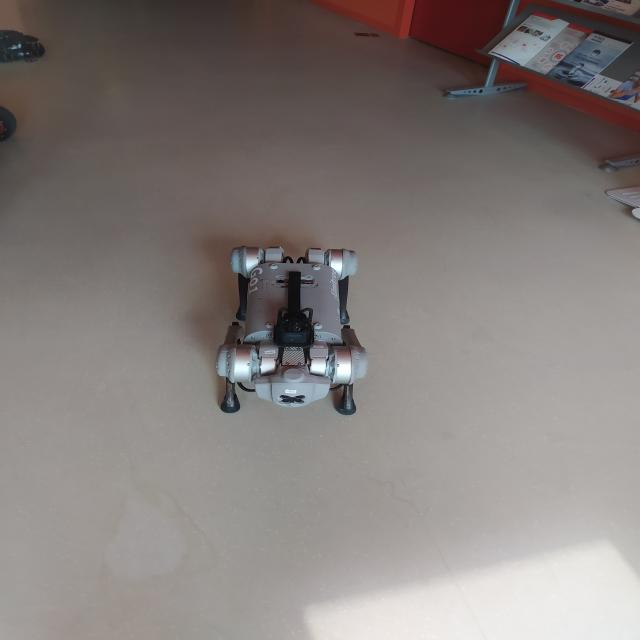unitree-go1-robot: (214, 230, 384, 424)
